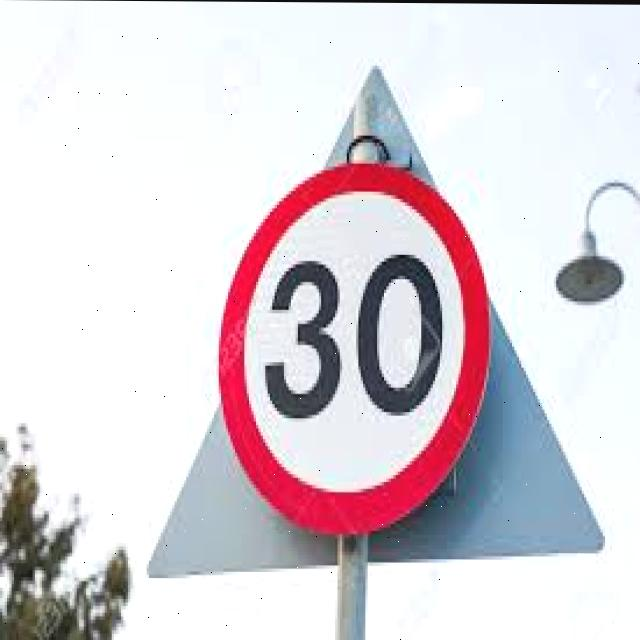Speed limit 30: (215, 156, 494, 539)
